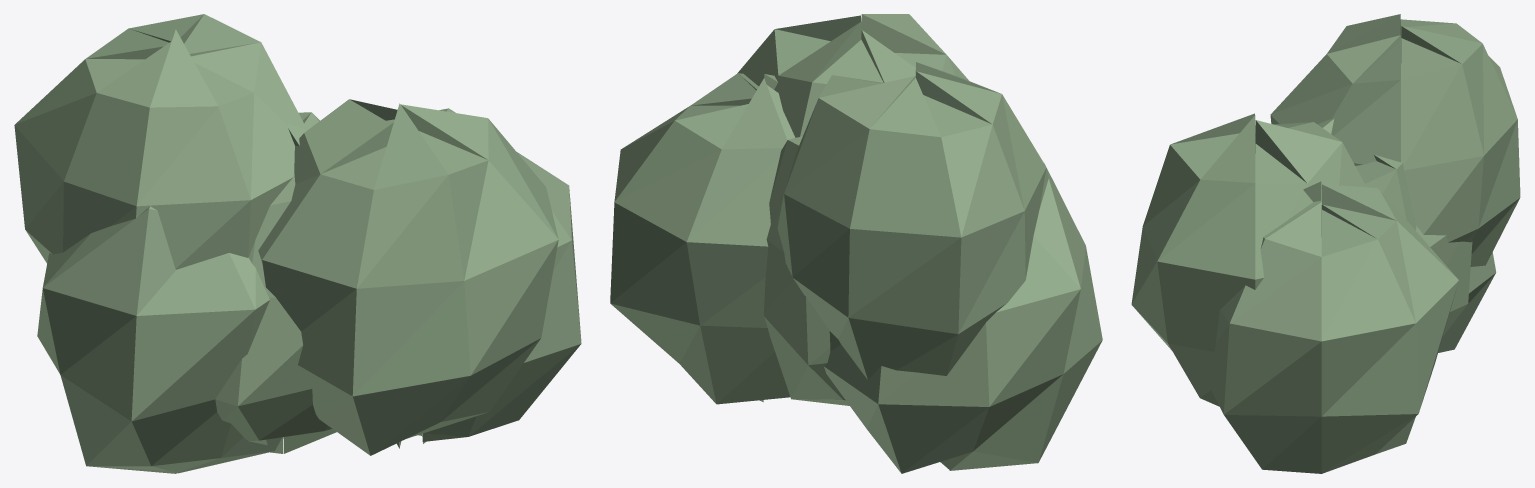
The model's file is bush_variant_02.glb.
3 views of the same model, side by side, from view 1: azimuth 30°, elevation 25°; view 2: azimuth 150°, elevation 25°; view 3: azimuth 270°, elevation 25° (orthographic). The views are drawn at different scales.
Parts seen in each view (by area): view 1: static_leaf_sage; view 2: static_leaf_sage; view 3: static_leaf_sage.
Boxes of the visible parts, x1,y1,x2,y2 form: static_leaf_sage: (14, 14, 581, 473); static_leaf_sage: (610, 14, 1102, 473); static_leaf_sage: (1131, 14, 1520, 473).
Size of the model in its own units: 1.54 by 1.27 by 1.2.
